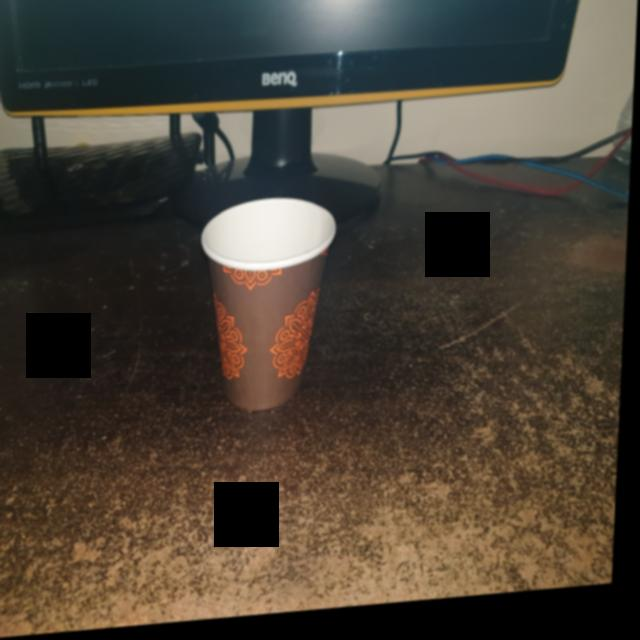cups: (191, 194, 346, 426)
